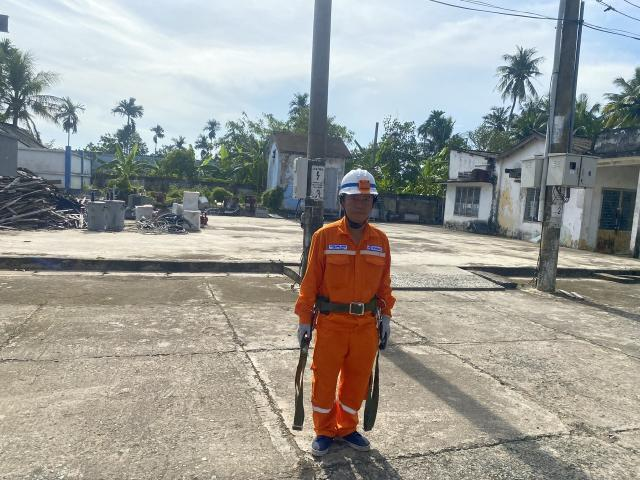gloves: (294, 302, 314, 345), (376, 309, 395, 350)
harness: (296, 286, 402, 316)
helmet: (338, 168, 382, 203)
shoes: (339, 421, 376, 456), (310, 412, 335, 460)
